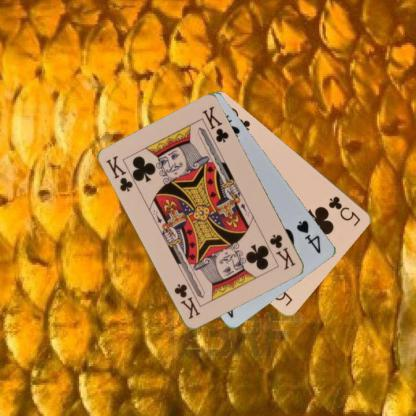4s: (294, 217, 322, 255)
5c: (326, 193, 362, 228)
Kc: (103, 153, 134, 193), (267, 232, 297, 271)
